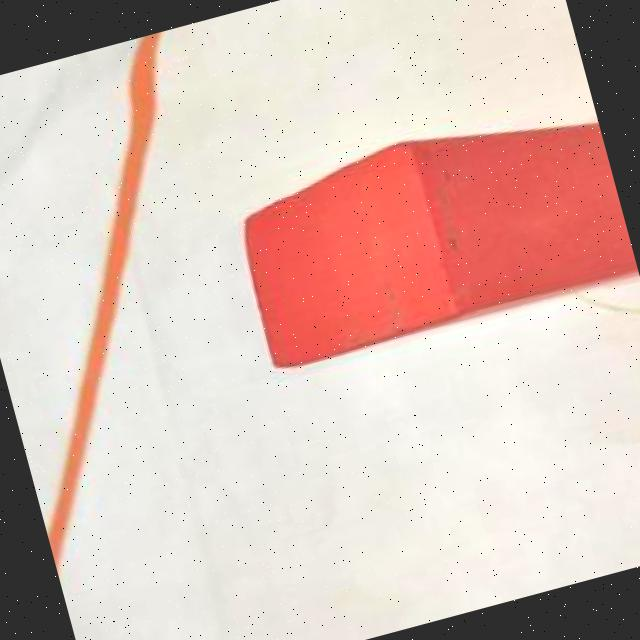redbox: (219, 90, 640, 377)
